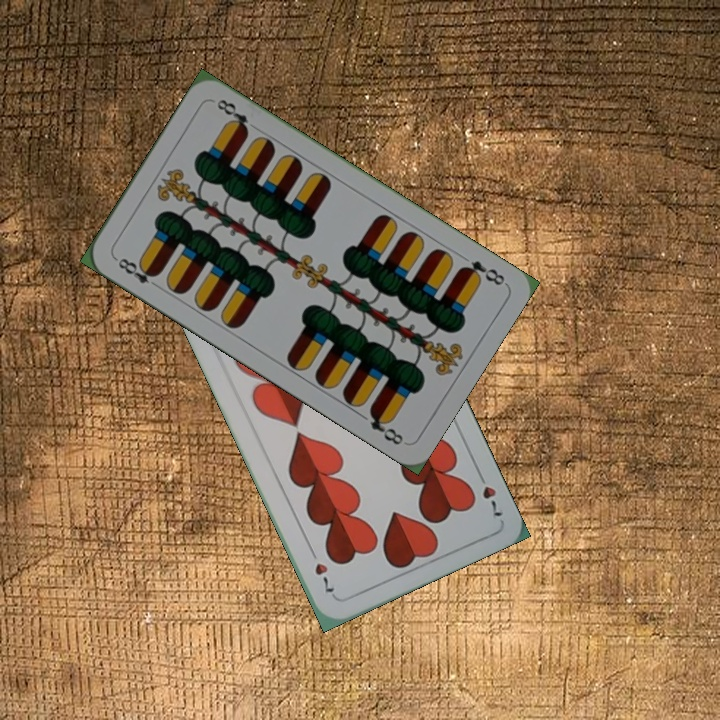E8: (111, 253, 163, 291), (455, 256, 508, 289)
H7: (473, 466, 505, 520)
